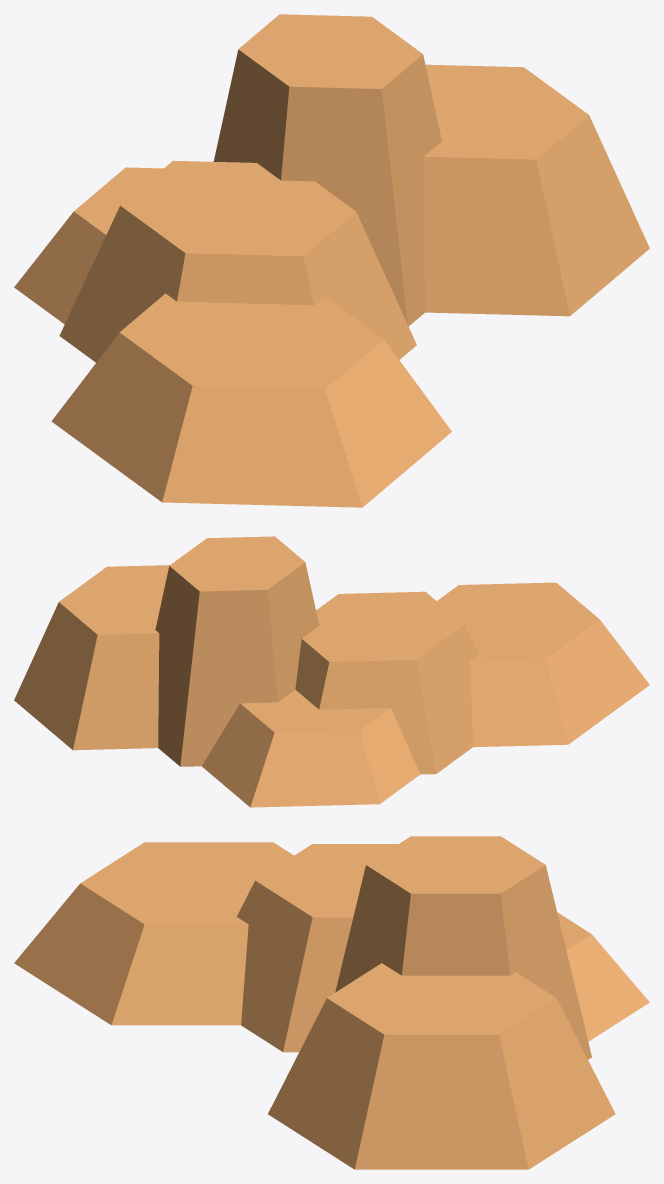
File: detail_dirt.dae
3 views of the same model, one above another, from view 1: azimuth 30°, elevation 25°; view 2: azimuth 150°, elevation 25°; view 3: azimuth 270°, elevation 25° (orthographic). The views are drawn at different scales.
Visible parts, largest first — view 1: detail_dirt; view 2: detail_dirt; view 3: detail_dirt.
Part boxes in pixels (<box>): detail_dirt: <box>14,14,649,507</box>; detail_dirt: <box>14,536,649,807</box>; detail_dirt: <box>14,836,649,1169</box>.
Bounding box in the file's own units: 0.6 × 0.2003 × 0.6.
